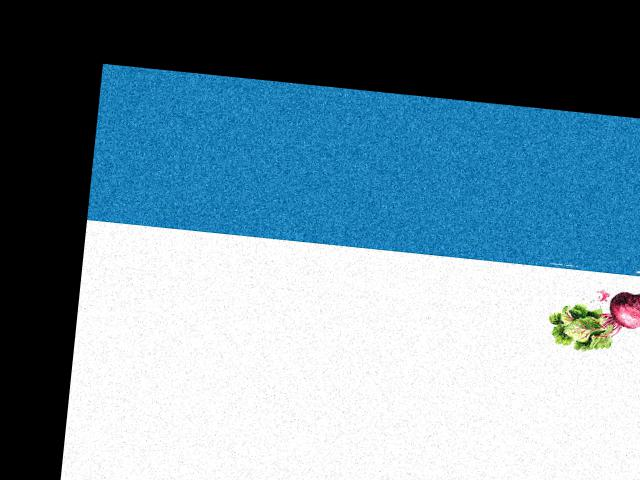beet: (545, 279, 640, 358)
